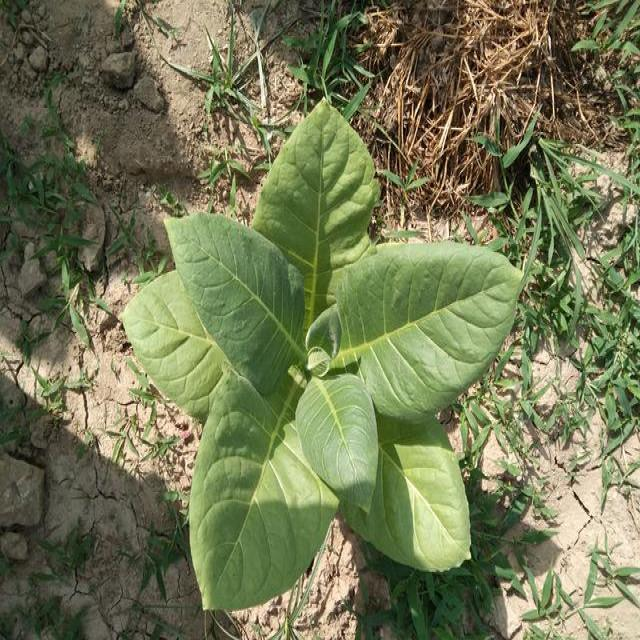crop: (118, 102, 528, 626)
